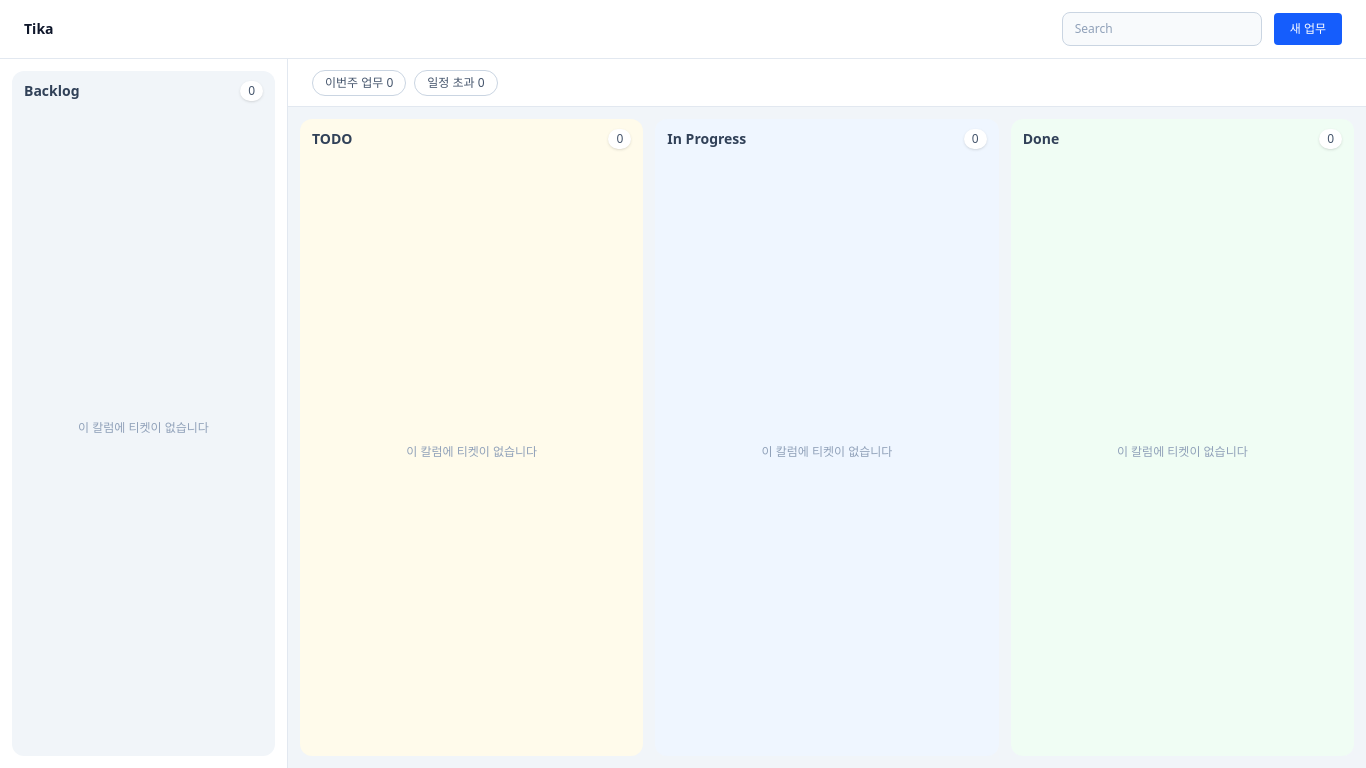
it: BoardContainer › "새 업무" 클릭 시 생성 모달이 열린다
Click the button "새 업무": coordinates (1308, 29) [1274,13,1342,45]
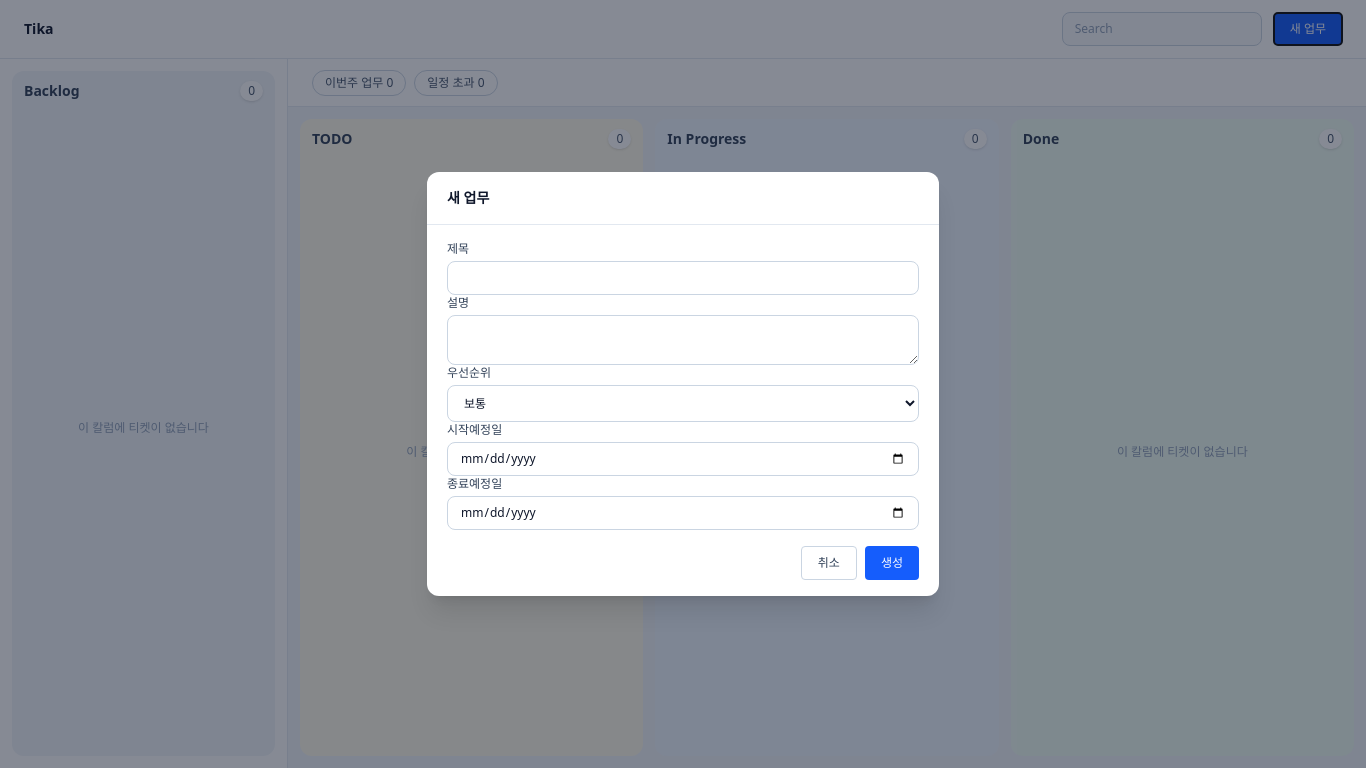
Expected: the heading "새 업무" is shown, [447,188,489,208]
Expected: the field labelled "제목" is shown, [447,261,919,295]
